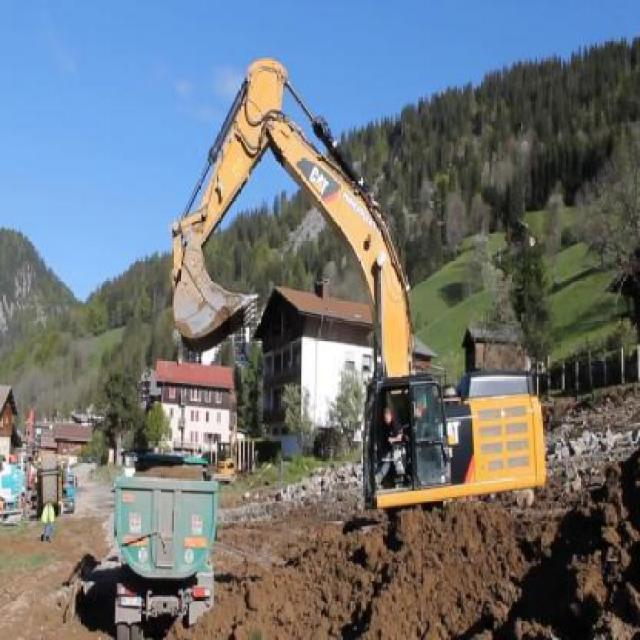Dump Truck: (112, 447, 219, 638)
Excavator: (168, 54, 547, 541)
